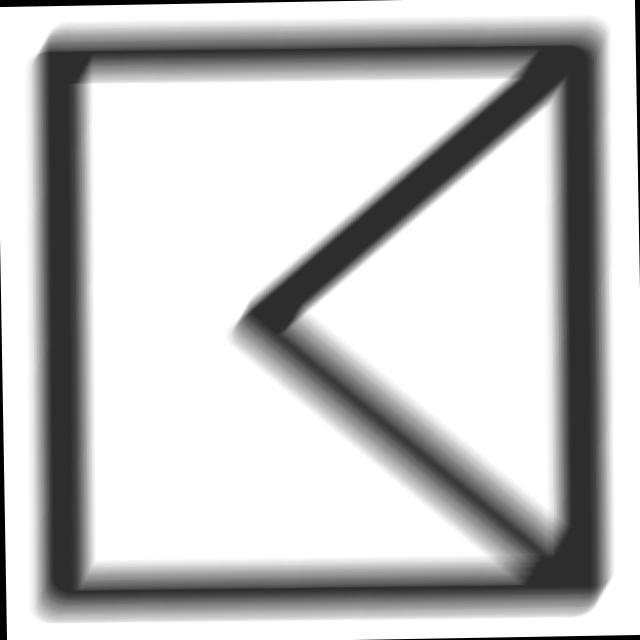letter: (17, 12, 628, 634)
